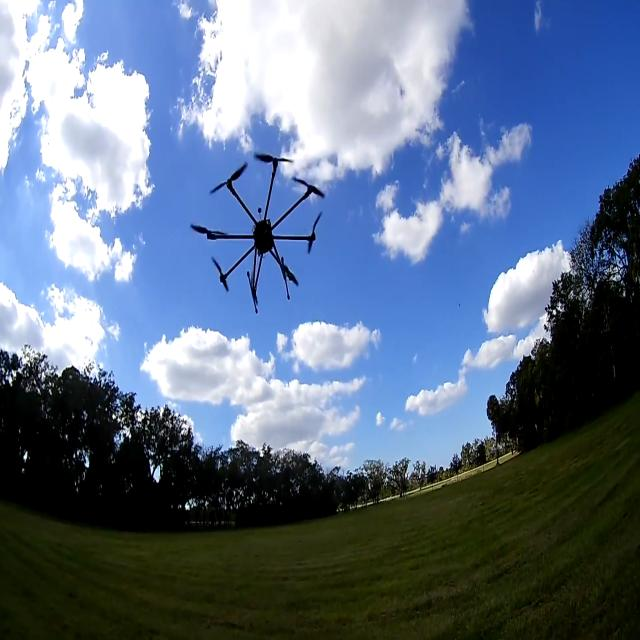drone: (184, 136, 346, 336)
